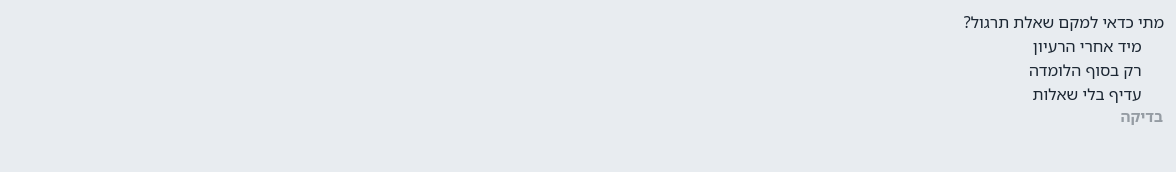
it: QuizRenderer — מענה › ניסיון נוסף מאפס את השאלה
Click the radio button labelled "רק בסוף הלומדה" at [1085, 70], box top-left (1029, 59), bottom-right (1142, 81)
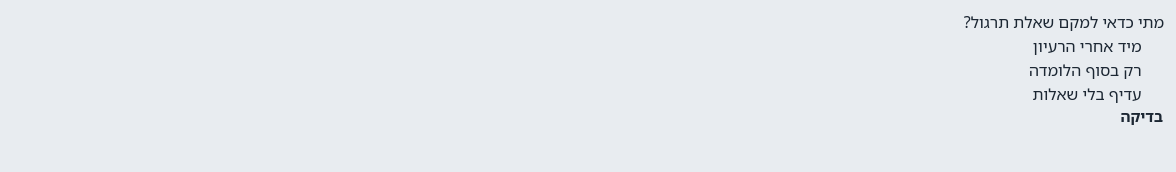
Click the button "בדיקה" at [1142, 116], box top-left (1119, 106), bottom-right (1164, 126)
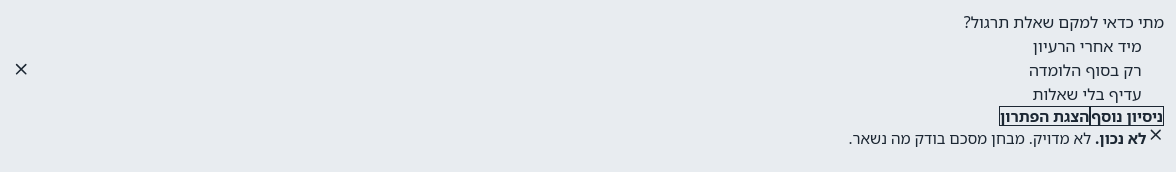
Click the button "ניסיון נוסף" at [1127, 116], box top-left (1090, 106), bottom-right (1164, 126)
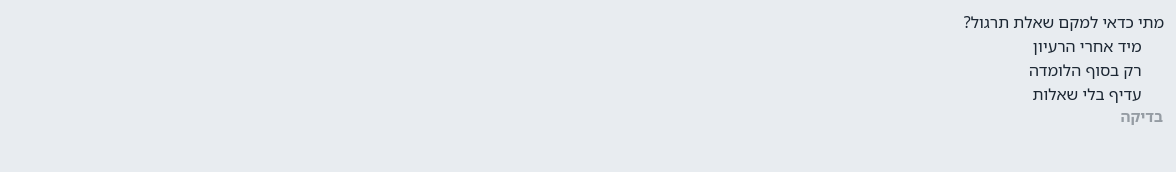
Now the button "בדיקה" is disabled, box top-left (1119, 106), bottom-right (1164, 126)
